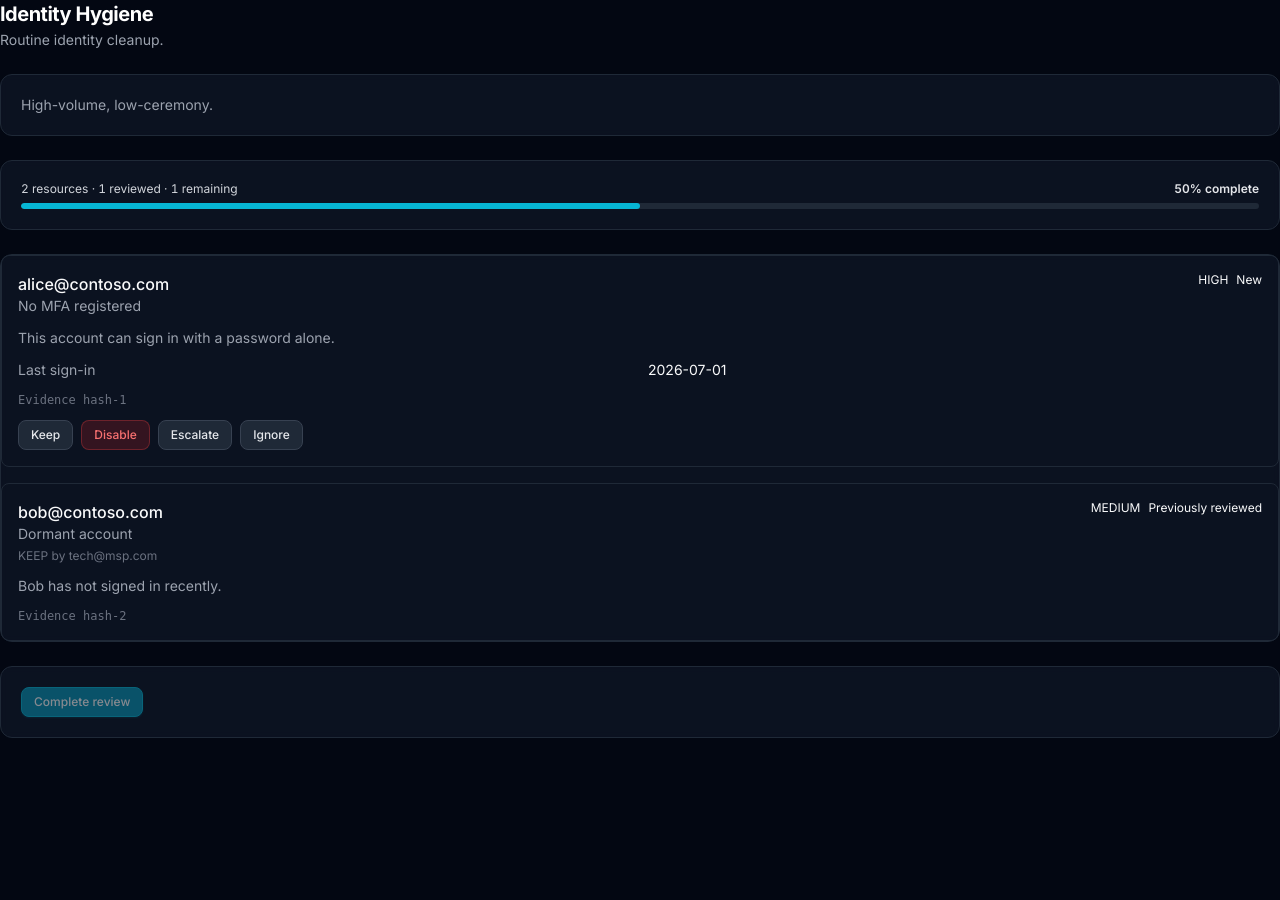
Test: cancelling the remediation dialog executes nothing
Click the button "Disable" at (116, 435), box [81,420,150,450]
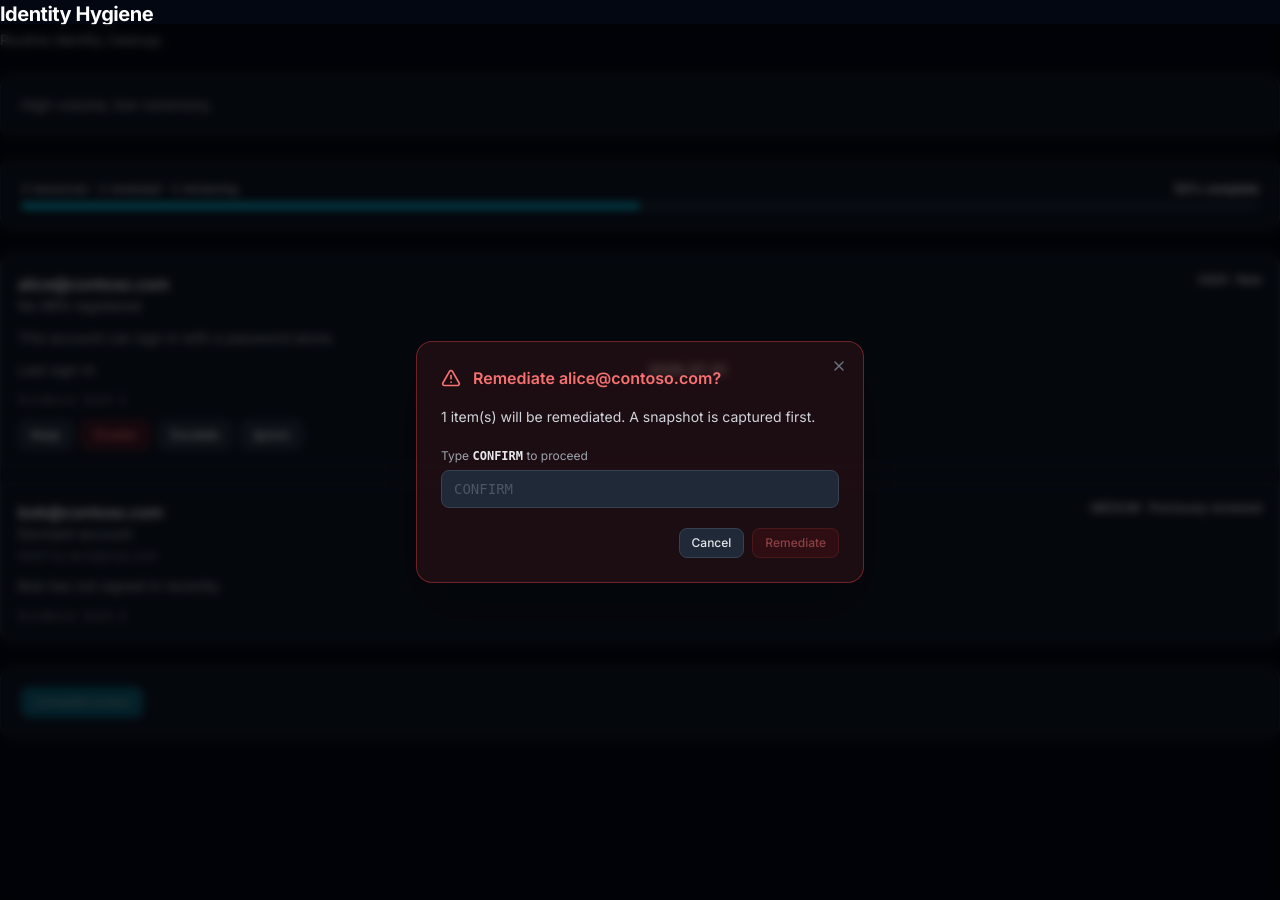
Now the text "1 item(s) will be remediated. A snapshot is captured first." is shown, box [441,406,839,428]
Click the button named "Cancel" at (839, 366), box [831,358,847,374]
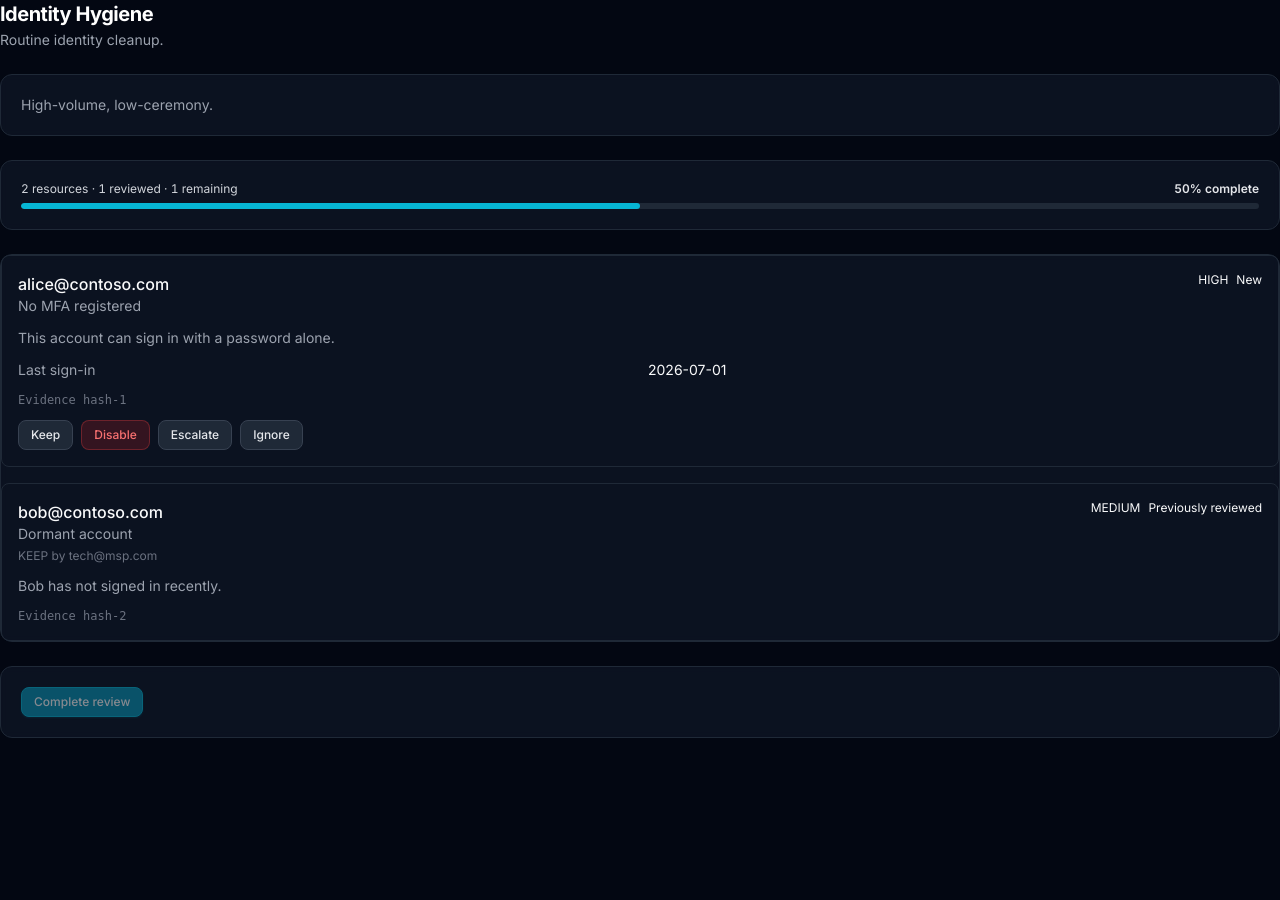
Now the text "will be remediated" is gone
